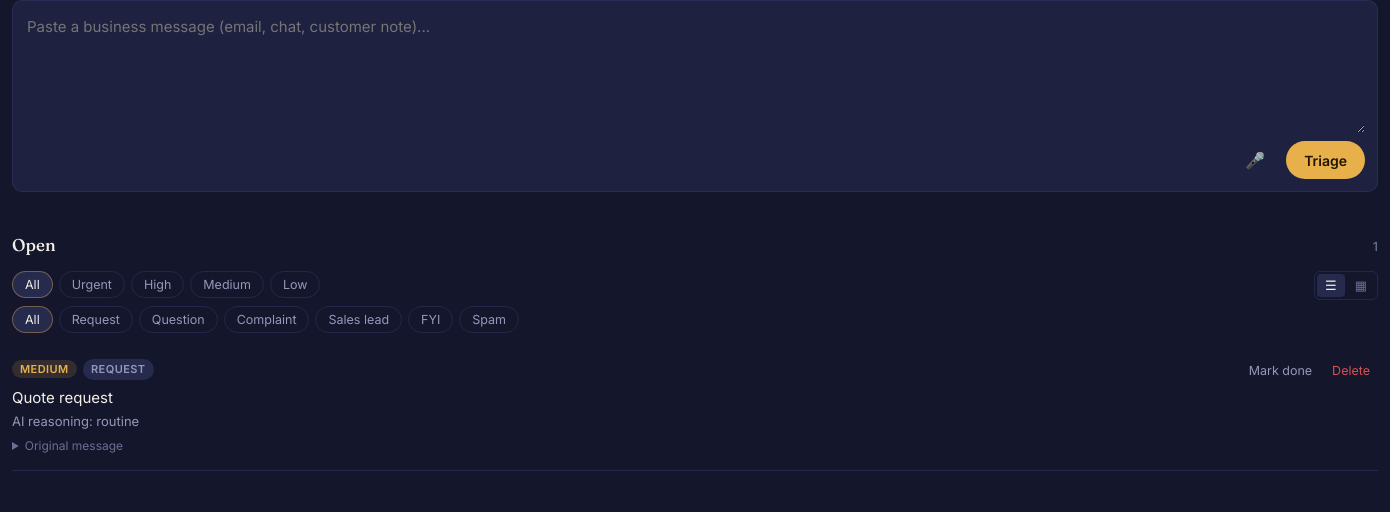
BusinessTab › a failed row action leaves the row unchanged and shows an inline error
Click the button "Mark done".
click(1280, 370)  # box top-left (1241, 359), bottom-right (1320, 382)
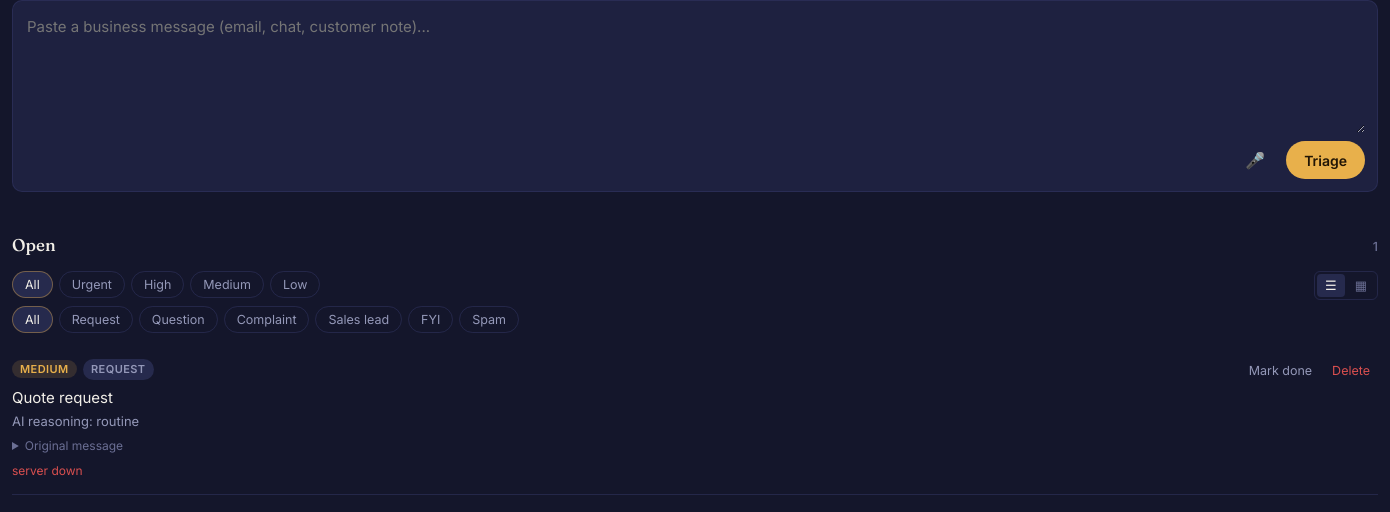
Expected: the message reads "server down", top-left (12, 463), bottom-right (83, 478)
